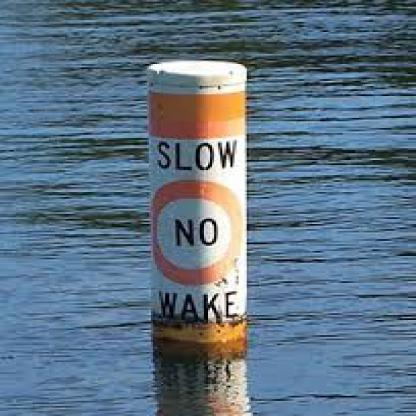buoy: (131, 49, 261, 337)
